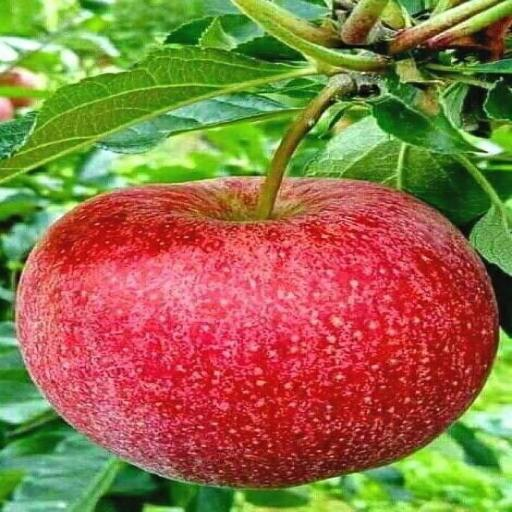apple: (18, 178, 497, 488)
